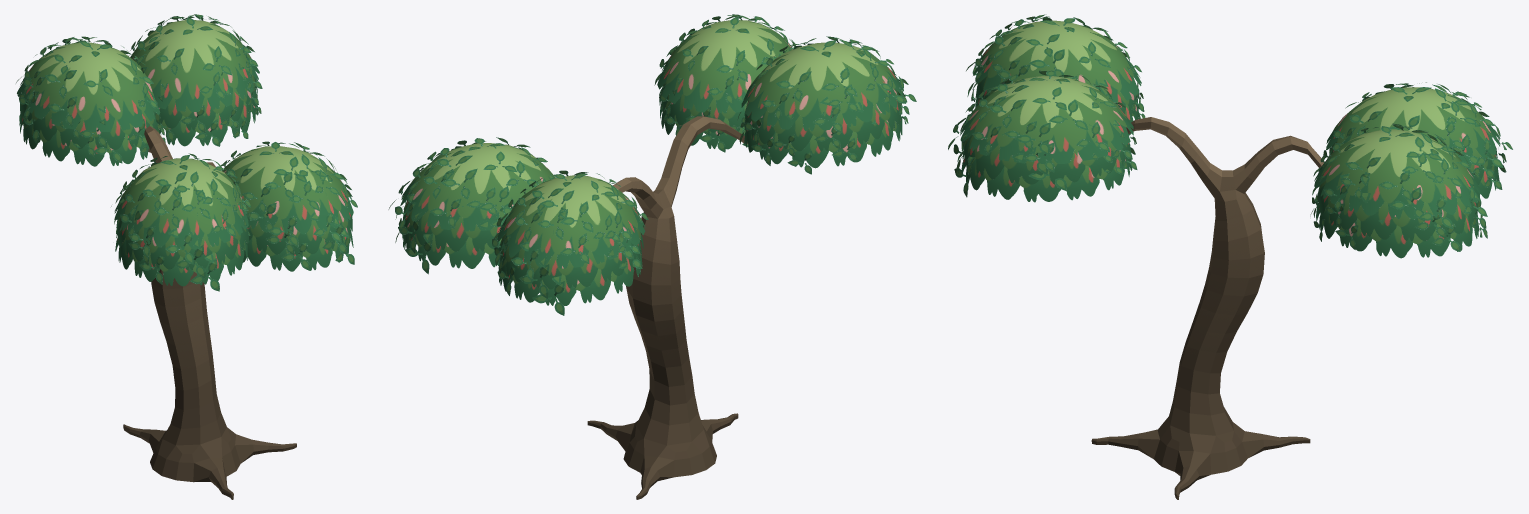
Rendered from SkinnyThreeNormal.fbx.
3 views of the same model, side by side, from view 1: azimuth 30°, elevation 25°; view 2: azimuth 150°, elevation 25°; view 3: azimuth 270°, elevation 25° (orthographic). The views are drawn at different scales.
Visible parts, largest first — view 1: SkinnyThreeNormal.001; view 2: SkinnyThreeNormal.001; view 3: SkinnyThreeNormal.001.
Boxes of the visible parts, box(x1,y1,x2,y2) form: SkinnyThreeNormal.001: box(16, 14, 357, 499); SkinnyThreeNormal.001: box(388, 14, 916, 499); SkinnyThreeNormal.001: box(948, 14, 1512, 499).
Size of the model in its own units: 1183 by 1370 by 1807.
